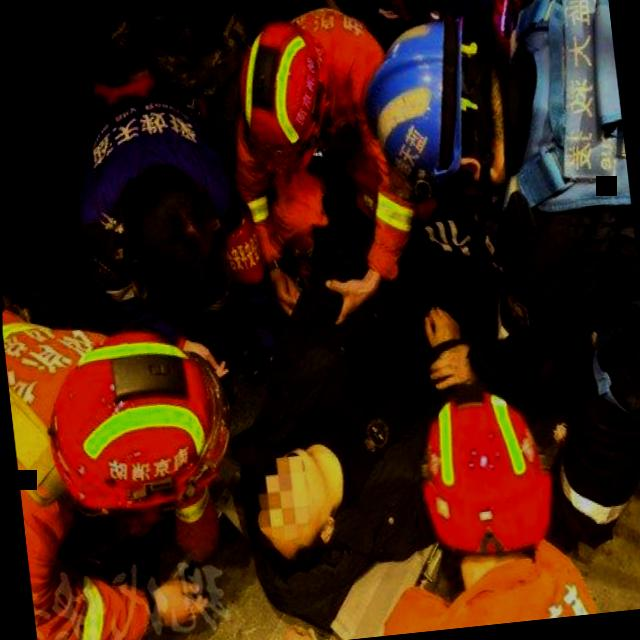Fall-Detected: (216, 222, 550, 623)
